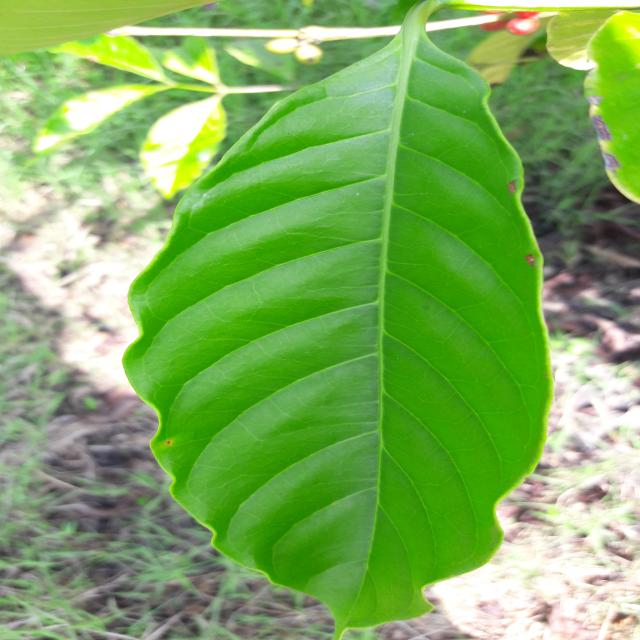Sanas: (121, 13, 554, 636)
